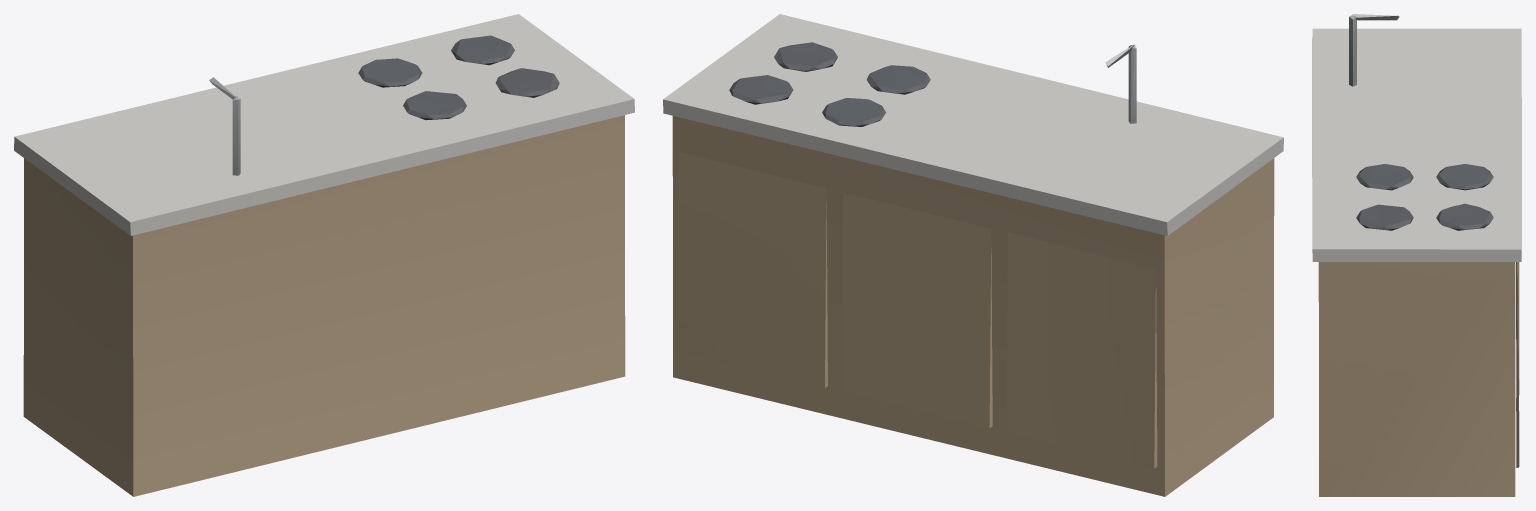
Rendered from furn_counter__oak_low.glb.
3 renders of one model, left to right at view 1: azimuth 30°, elevation 25°; view 2: azimuth 150°, elevation 25°; view 3: azimuth 270°, elevation 25°, orthographic. The views are drawn at different scales.
Size of the model in its own units: 1.63 by 1.1 by 0.6537.
